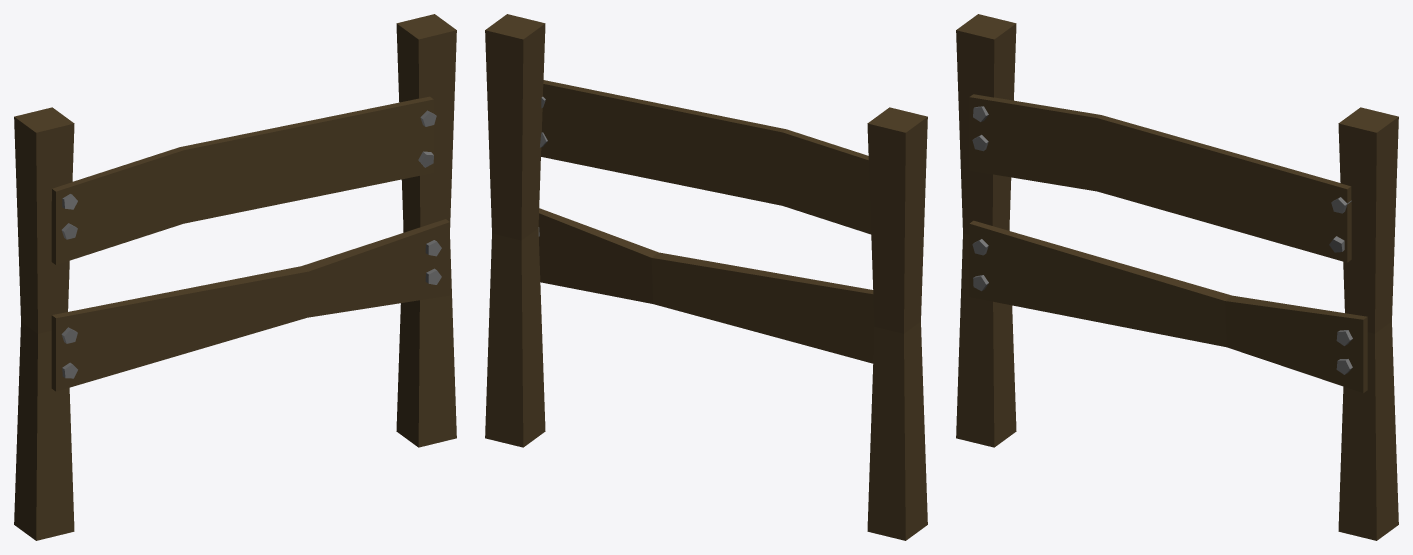
File: FencewithColour.fbx
3 views of the same model, side by side, from view 1: azimuth 30°, elevation 25°; view 2: azimuth 150°, elevation 25°; view 3: azimuth 330°, elevation 25° (orthographic).
Visible parts, largest first — view 1: Plane.002, Cylinder; view 2: Plane.002; view 3: Plane.002, Cylinder.
Part boxes in pixels (<box>): Plane.002: <box>14,14,456,540</box>; Cylinder: <box>61,110,441,378</box>; Plane.002: <box>485,14,927,540</box>; Plane.002: <box>956,14,1398,540</box>; Cylinder: <box>972,106,1352,374</box>.
Bounding box in the file's own units: 290 × 269 × 34.1.
